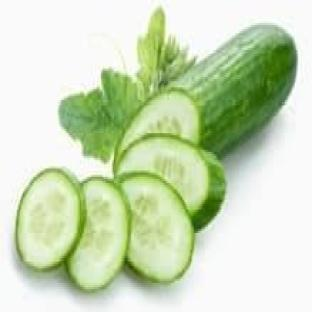Cucumber: (170, 25, 296, 155), (114, 134, 226, 230), (120, 173, 193, 282), (67, 177, 129, 291), (16, 169, 85, 270), (116, 90, 200, 158)
